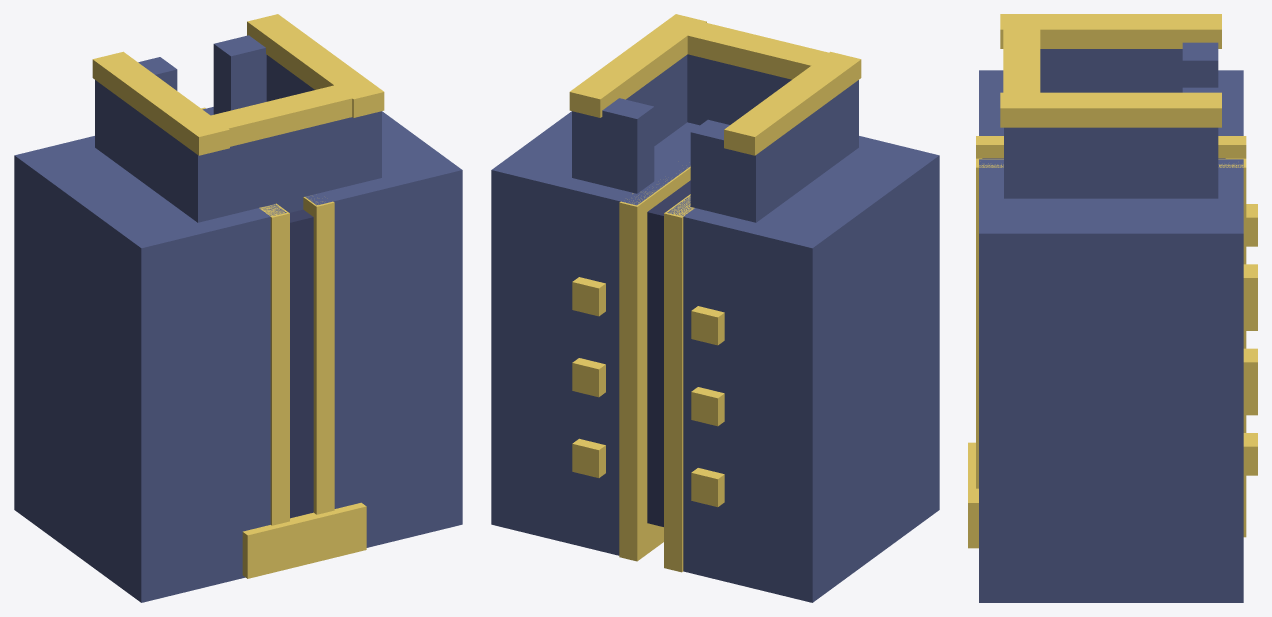
The model's file is casaco_capitao_tronco.glb.
3 views of the same model, side by side, from view 1: azimuth 30°, elevation 25°; view 2: azimuth 150°, elevation 25°; view 3: azimuth 270°, elevation 25° (orthographic). The views are drawn at different scales.
Parts seen in each view (by area): view 1: casaco_capitao_tronco; view 2: casaco_capitao_tronco; view 3: casaco_capitao_tronco.
Part boxes in pixels (x1,y1,x2,y2): casaco_capitao_tronco: [14, 14, 462, 602]; casaco_capitao_tronco: [491, 14, 939, 602]; casaco_capitao_tronco: [968, 14, 1257, 602].
Bounding box in the file's own units: 0.54 × 0.71 × 0.405.
